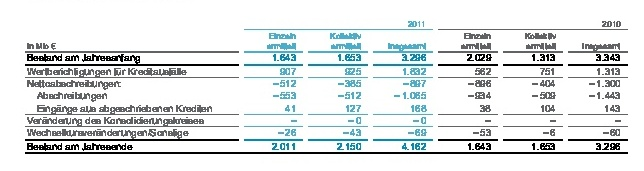table: (0, 0, 644, 171)
